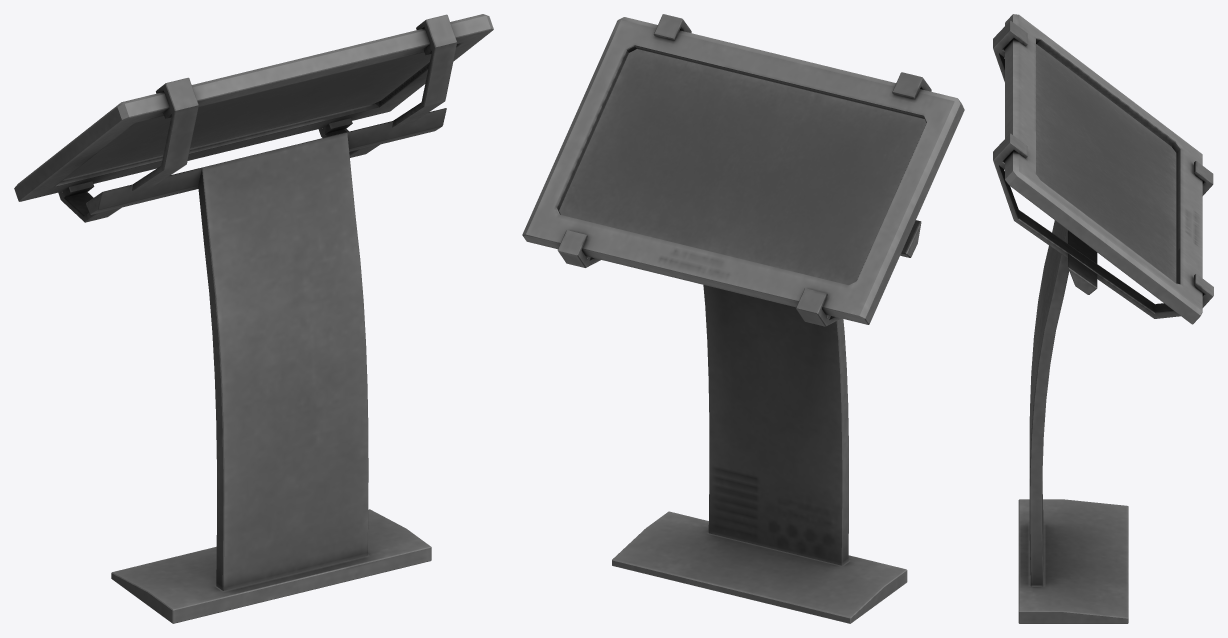
Rendered from Security System 2.FBX.
3 renders of one model, left to right at view 1: azimuth 30°, elevation 25°; view 2: azimuth 150°, elevation 25°; view 3: azimuth 270°, elevation 25°, orthographic. The views are drawn at different scales.
Parts seen in each view (by area): view 1: Security System 2 (×2); view 2: Security System 2 (×2); view 3: Security System 2 (×2).
Boxes of the visible parts, x1,y1,x2,y2 form: Security System 2 (×2): [14, 14, 493, 623]; Security System 2 (×2): [522, 14, 964, 623]; Security System 2 (×2): [993, 14, 1213, 623].
Bounding box in the file's own units: 0.7211 × 0.4172 × 1.01.
